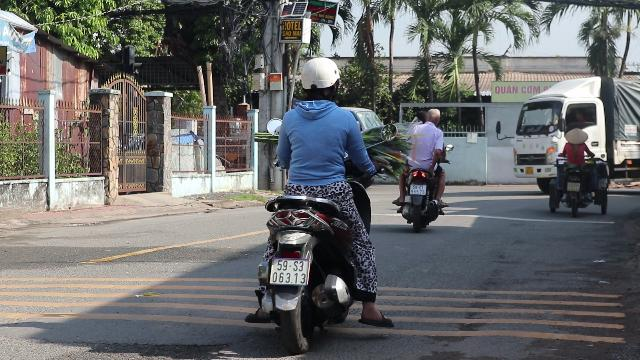helmet: (296, 56, 342, 104)
licenseplate: (271, 259, 309, 285), (410, 185, 426, 195)
motorcyclist: (245, 55, 392, 353), (392, 106, 448, 229)
nohelmet: (426, 109, 440, 125)
